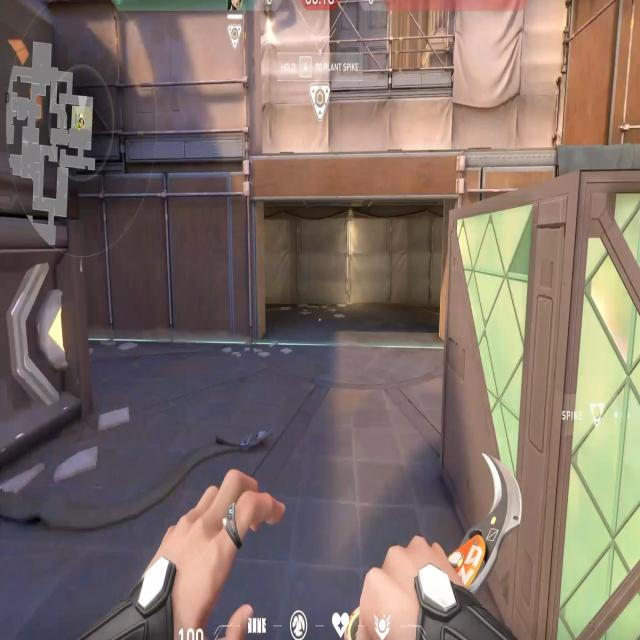A_Heaven_Wall: (40, 0, 263, 152)
A_Hell: (222, 161, 494, 370)
A_Site_Box: (442, 168, 640, 640)
